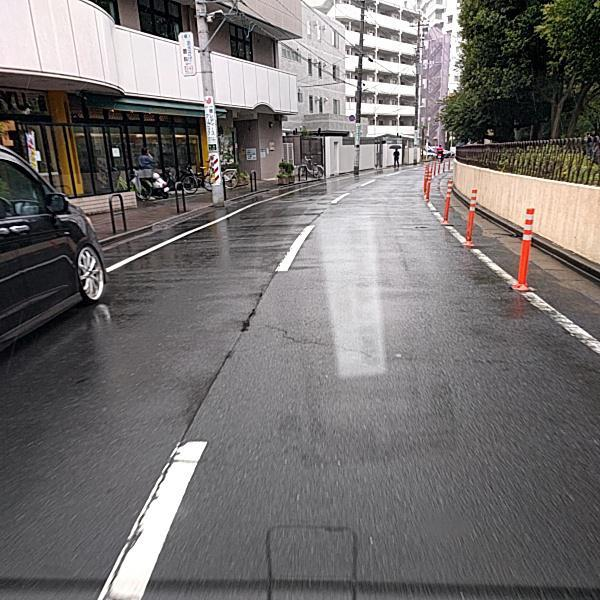D10: (258, 324, 492, 367)
